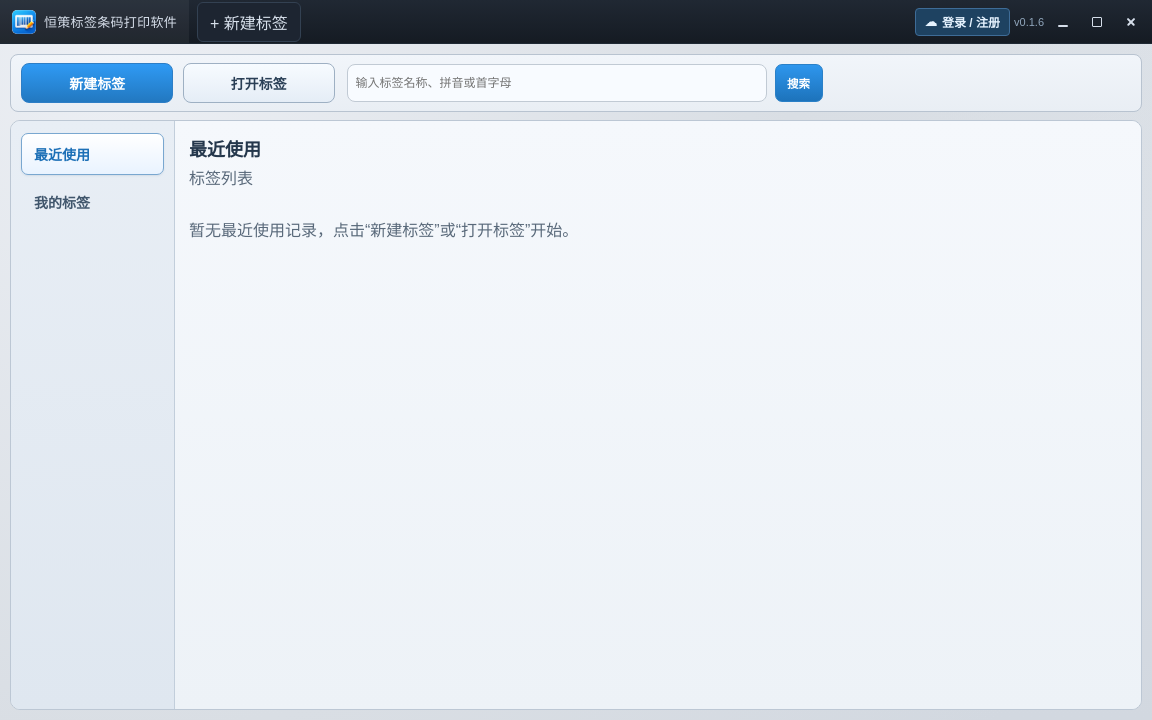
App shell › shows common size presets when creating a new label
Step 1. Click the button with class "new-tab" → [249, 22], box [197,2,301,42]
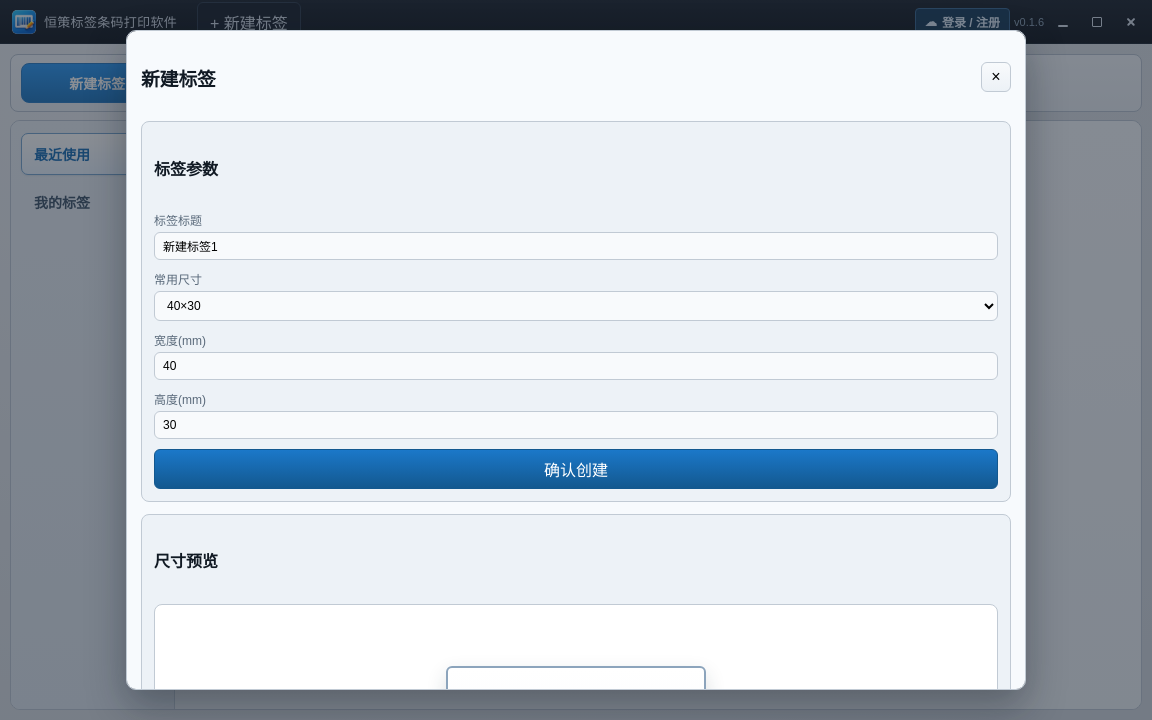
Check: the element with class "new-label-modal" is shown
Check: the dropdown labelled "常用尺寸" is shown, box [154,291,998,321]
